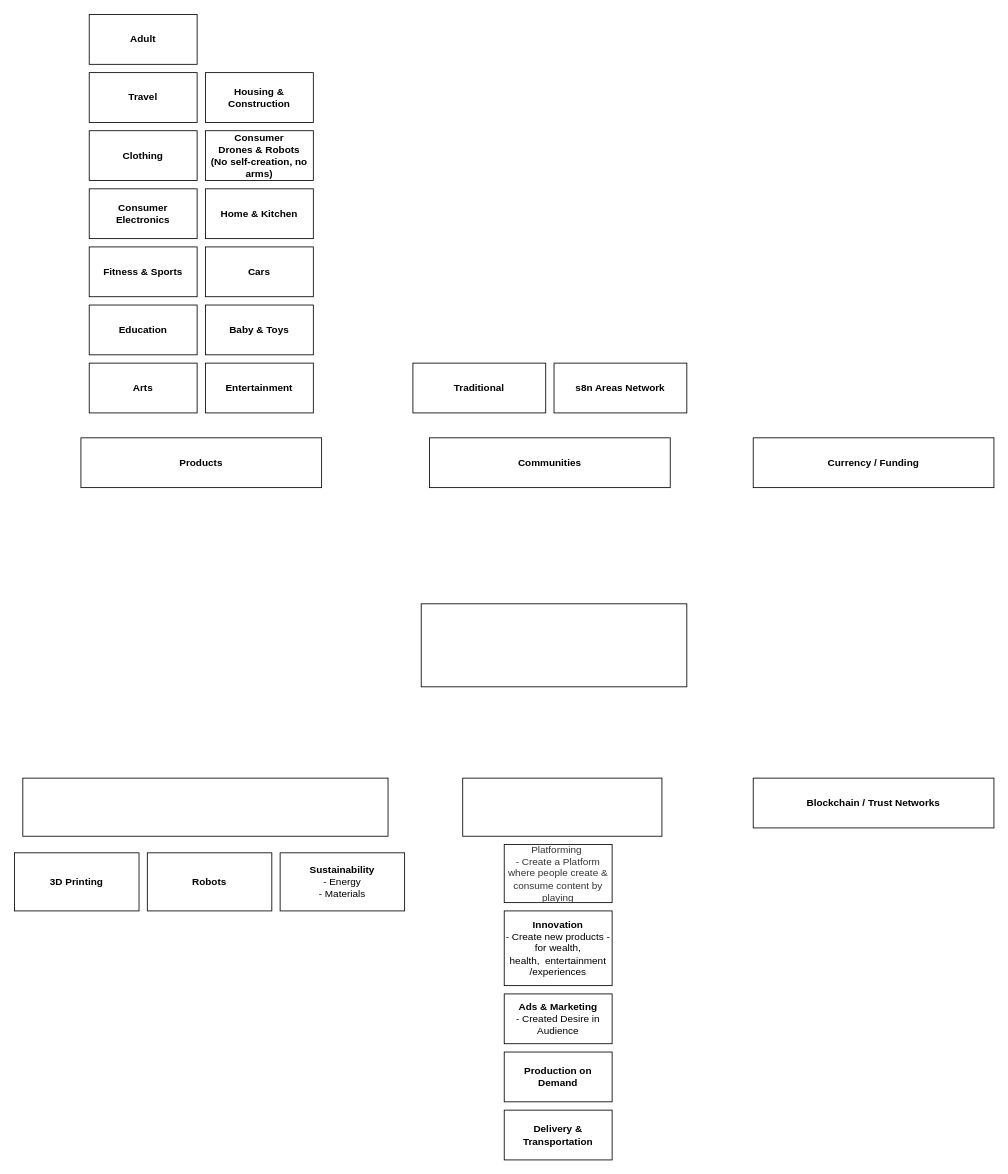
Some shapes in this 1008 by 1174 pixel diagram are drawn without their labels. Each missing label, with the centre of its shape:
"Autonomous Manufactoring on Demand" belongs at point 205,806.
"s8n Abundance - of wealth, health, and entertainment/experiences" belongs at point 553,645.
"Vertical Integration" belongs at point 562,806.
